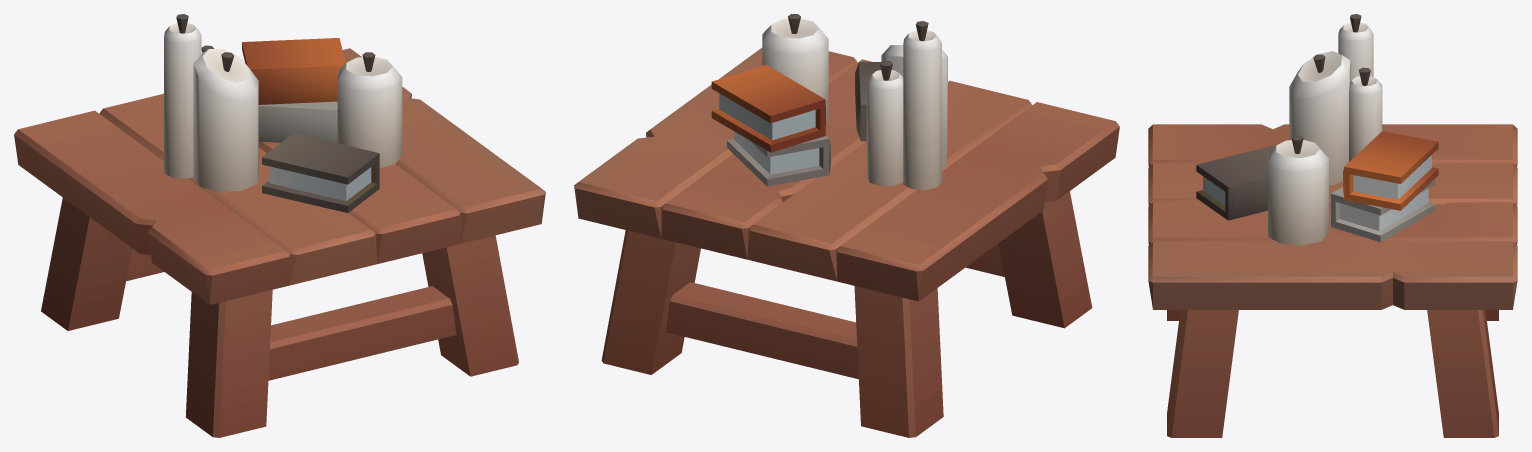
File: table_medium_decorated_b.glb
3 renders of one model, left to right at view 1: azimuth 30°, elevation 25°; view 2: azimuth 150°, elevation 25°; view 3: azimuth 270°, elevation 25°, orthographic. The views are drawn at different scales.
Parts seen in each view (by area): view 1: table_medium_decorated_B; view 2: table_medium_decorated_B; view 3: table_medium_decorated_B.
Part boxes in pixels (<box>): table_medium_decorated_B: <box>14,14,545,437</box>; table_medium_decorated_B: <box>574,14,1119,437</box>; table_medium_decorated_B: <box>1148,14,1517,437</box>.
Bounding box in the file's own units: 2 × 1.87 × 2.
Materials: 1 (1 with a texture image).
